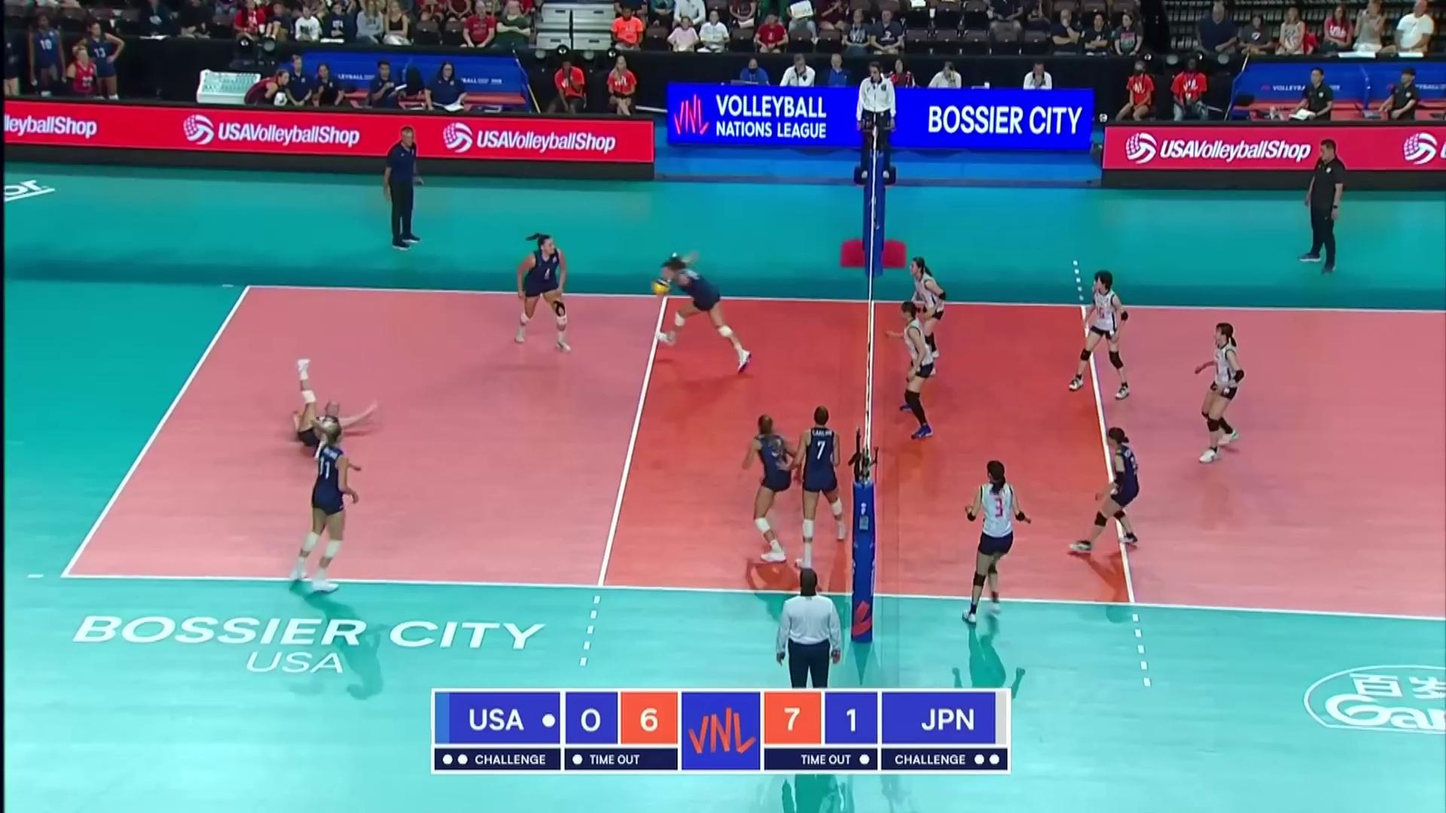player: (964, 459, 1035, 615), (655, 258, 752, 371), (295, 421, 356, 599), (1068, 429, 1143, 557), (739, 412, 800, 566), (285, 356, 376, 450), (794, 407, 848, 564), (1068, 271, 1129, 397), (1195, 322, 1247, 462), (516, 233, 574, 349), (896, 301, 936, 440), (906, 256, 949, 375)
refree: (776, 566, 845, 689), (858, 62, 898, 175)
